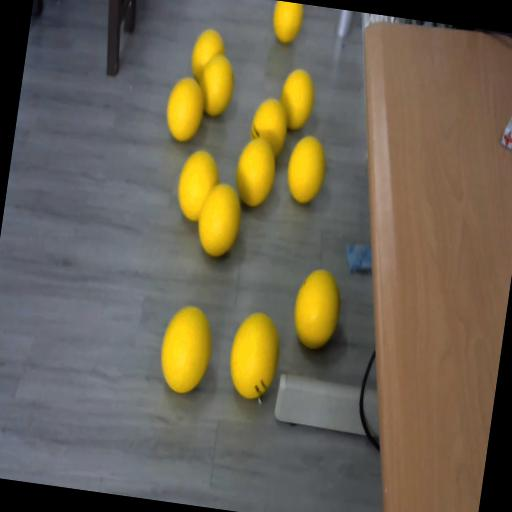FUEL: (155, 301, 217, 396), (223, 308, 285, 402), (288, 264, 346, 352), (193, 180, 246, 260), (230, 134, 280, 210), (282, 131, 330, 206), (162, 74, 208, 146), (194, 50, 238, 118), (276, 66, 318, 132), (270, 0, 304, 45)
